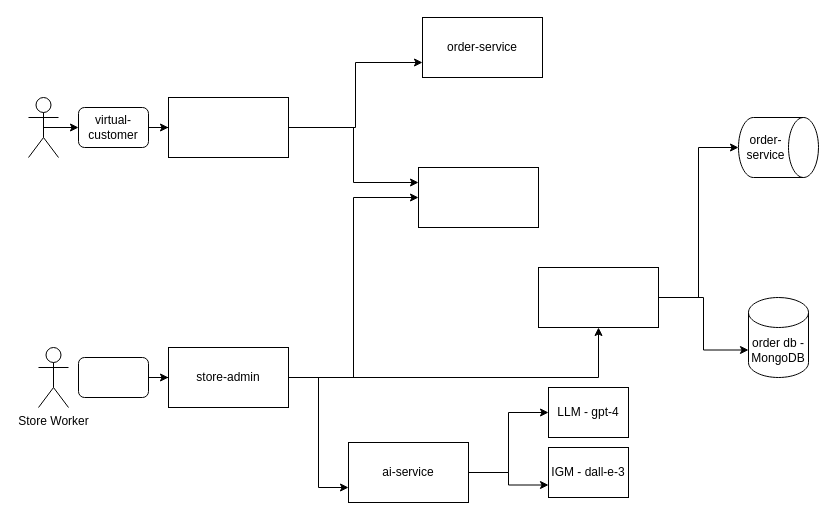
Some shapes in this 836 by 520 pixel diagram are drawn without their labels. Each missing label, with the box of its shape:
Customer: (28, 96, 58, 158)
makeline-service: (538, 266, 658, 328)
product-service: (418, 166, 538, 228)
store-front: (168, 96, 288, 158)
virtual-worker: (78, 356, 148, 398)
